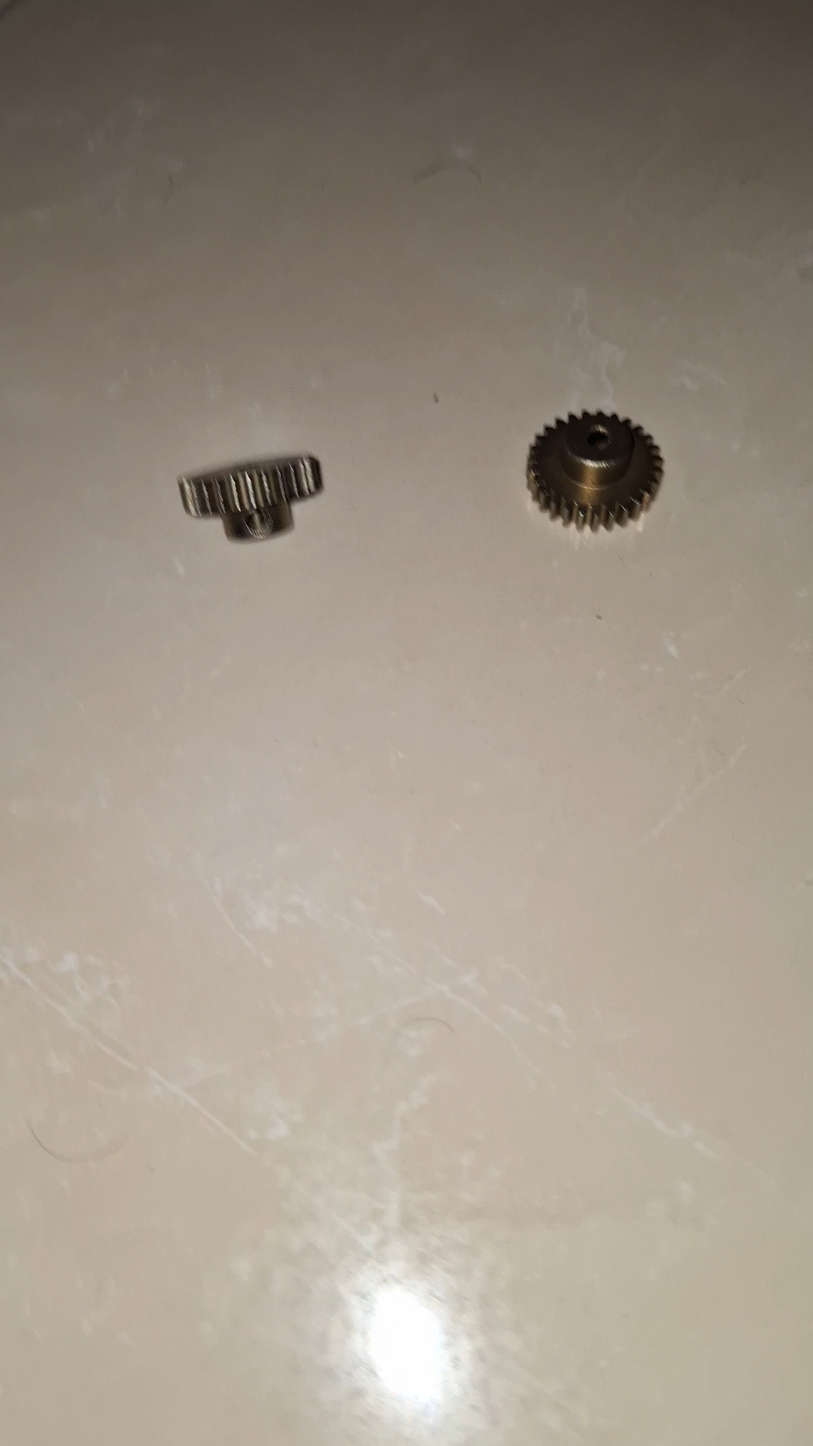spur gear: (527, 412, 662, 530), (179, 455, 321, 539)
